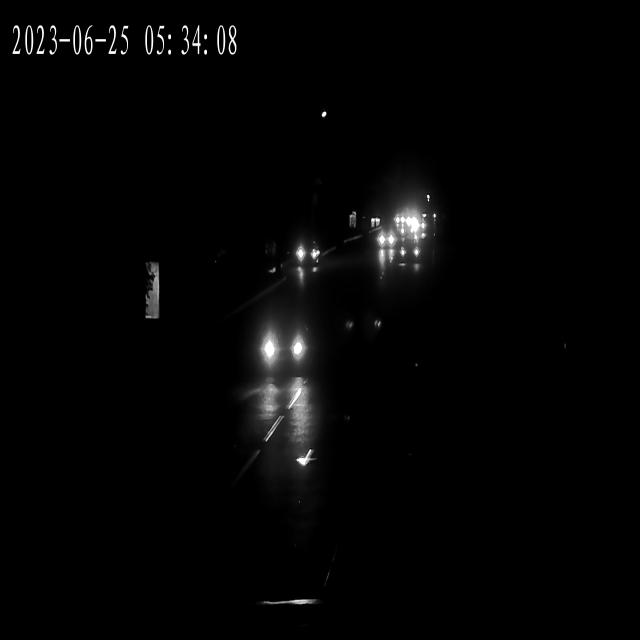Car: (251, 314, 308, 381), (374, 217, 396, 260), (298, 235, 319, 278), (398, 206, 426, 237), (395, 242, 418, 266)
